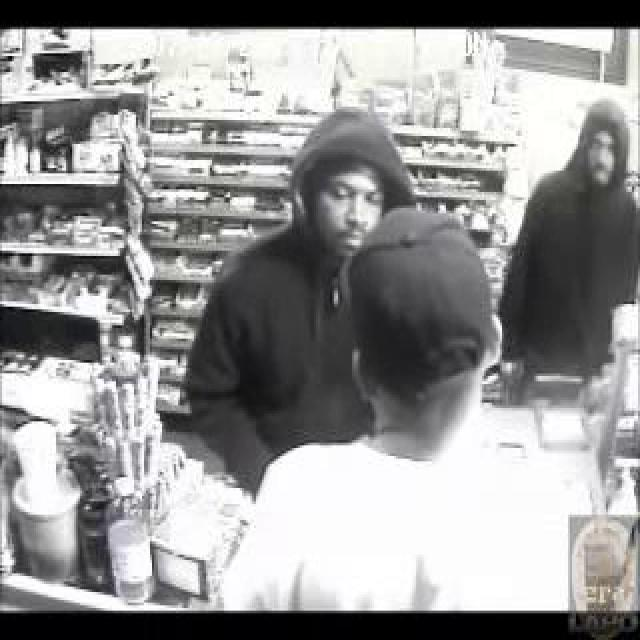robbery: (164, 102, 630, 594)
